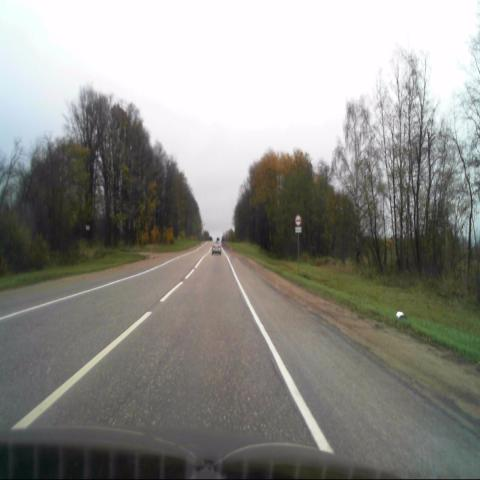3_20: (294, 213, 302, 226)
